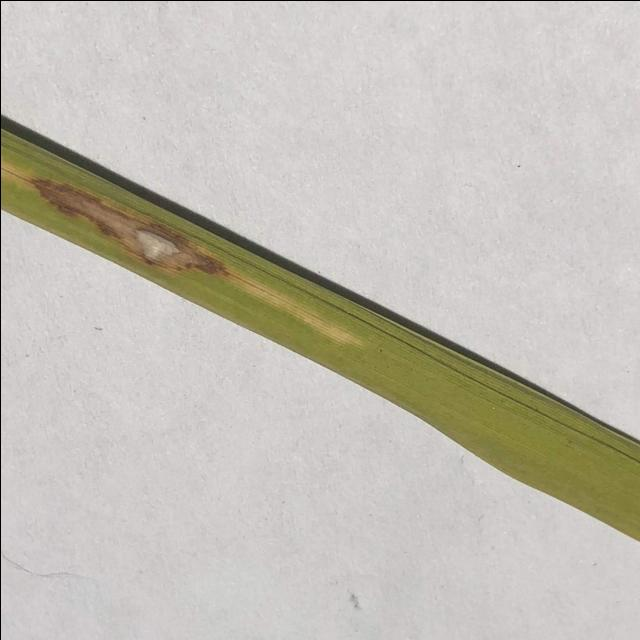Leaf blast: (0, 109, 640, 560)
